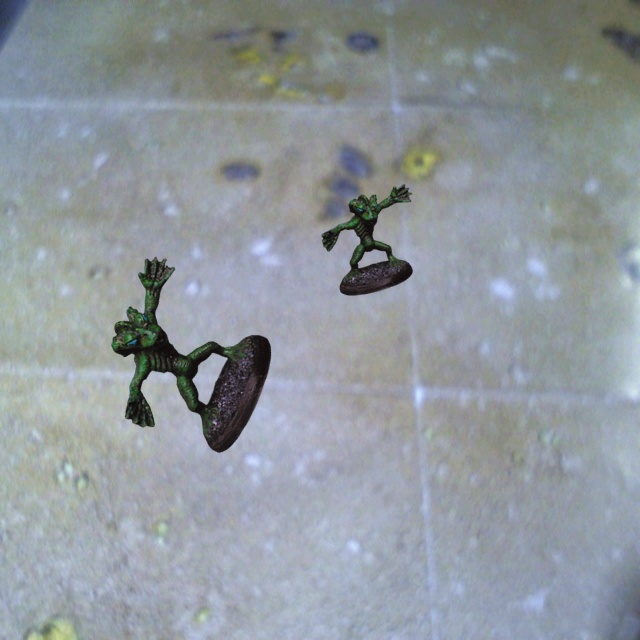pieza_juego: (111, 257, 270, 452), (321, 184, 412, 295)
